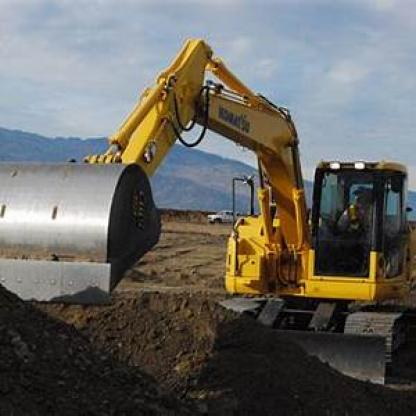excavator: (6, 22, 414, 397)
